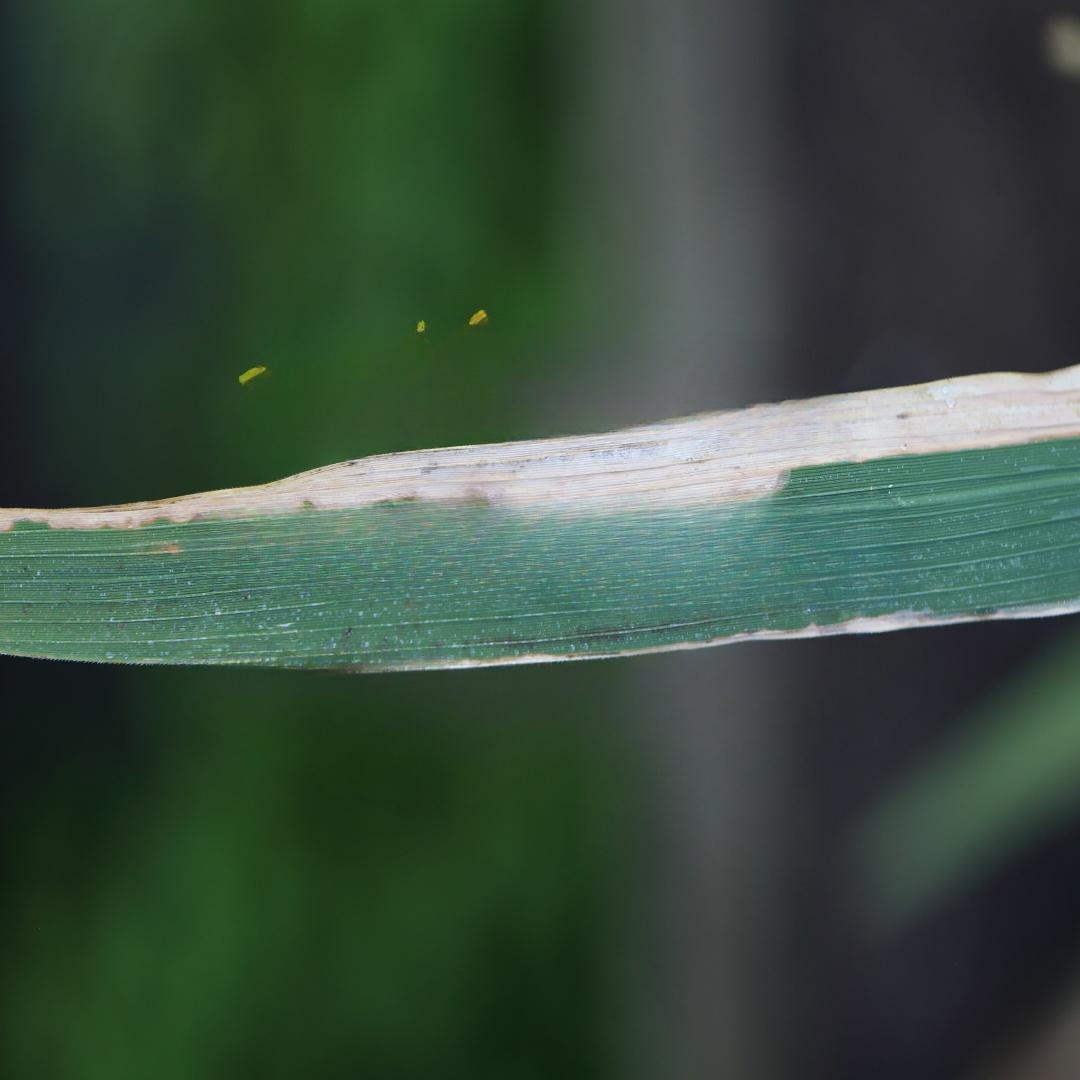BLB: (1, 365, 1078, 530)
LEAF: (0, 364, 1079, 672)
